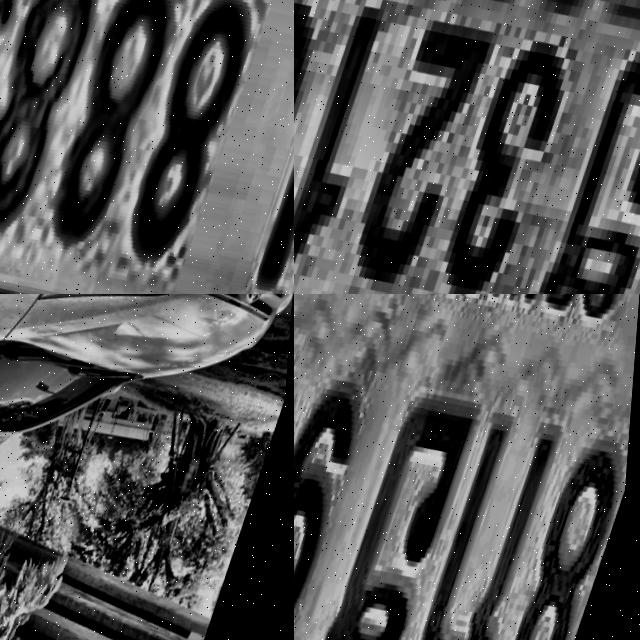license-plate: (294, 294, 640, 640), (294, 0, 640, 294), (0, 0, 294, 294)
